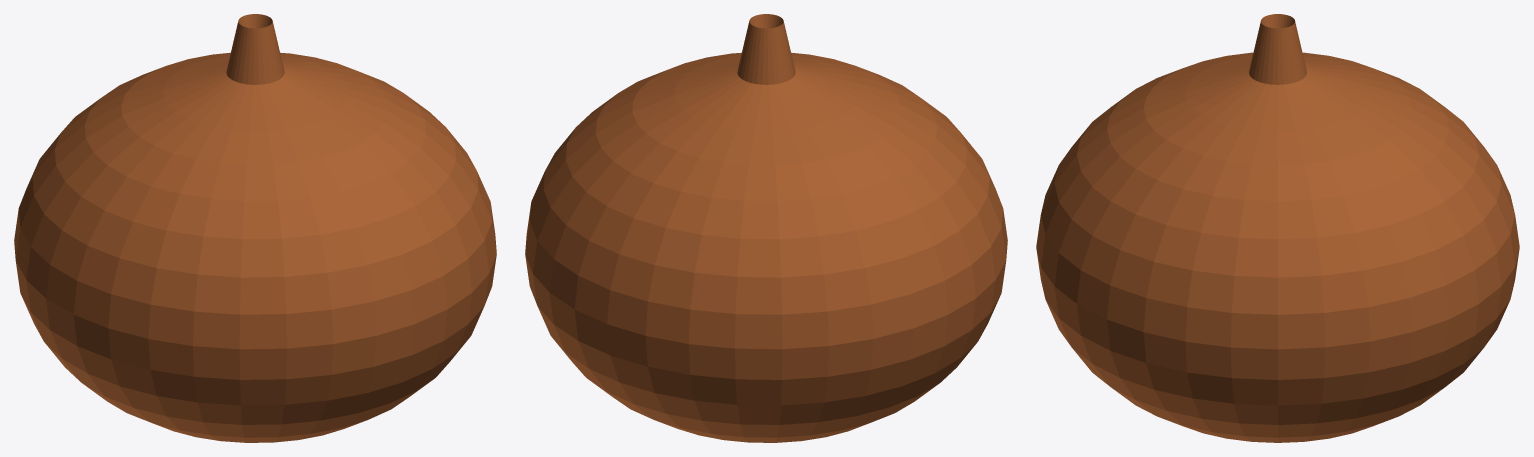
Rendered from uncutOnion.fbx.
3 renders of one model, left to right at view 1: azimuth 30°, elevation 25°; view 2: azimuth 150°, elevation 25°; view 3: azimuth 270°, elevation 25°, orthographic.
Visible parts, largest first — view 1: Sphere; view 2: Sphere; view 3: Sphere.
Part boxes in pixels (x1,y1,x2,y2): Sphere: (14, 14, 496, 442); Sphere: (525, 14, 1007, 442); Sphere: (1036, 14, 1519, 442).
Size of the model in its own units: 70.16 by 70.16 by 62.42.
